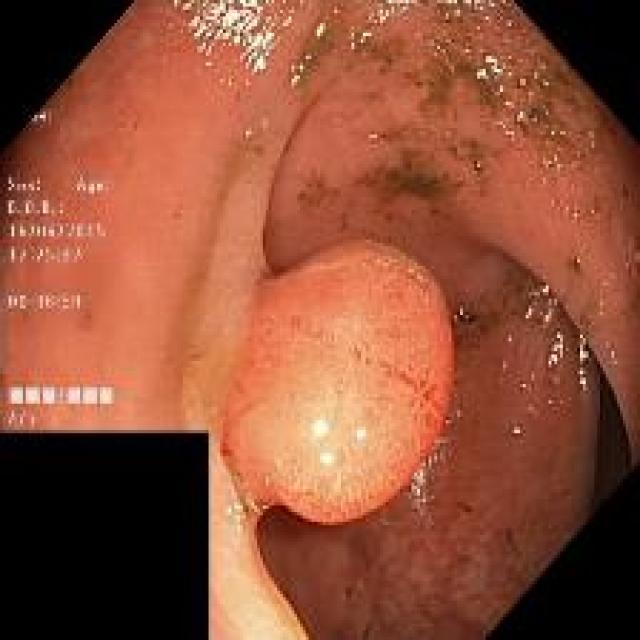Polyps: (224, 241, 452, 525)
